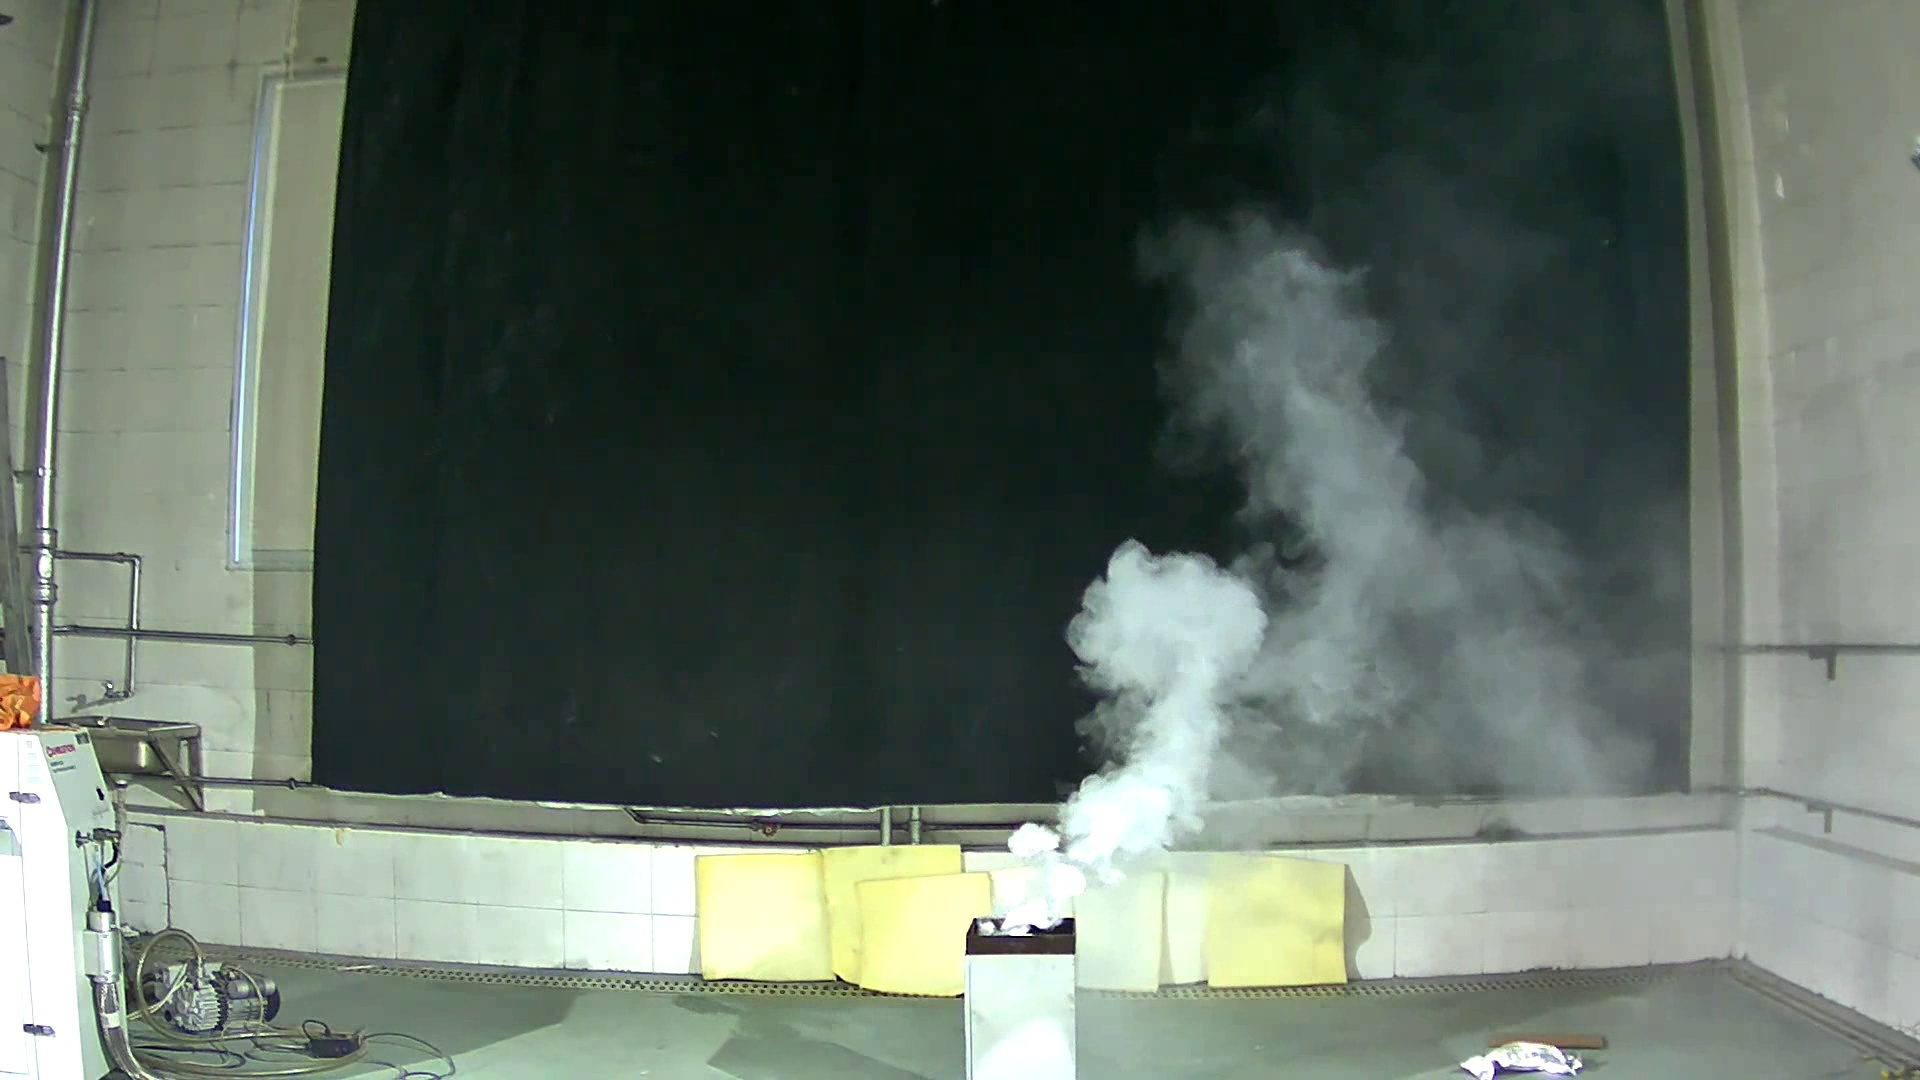smoke: (1002, 193, 1615, 936)
